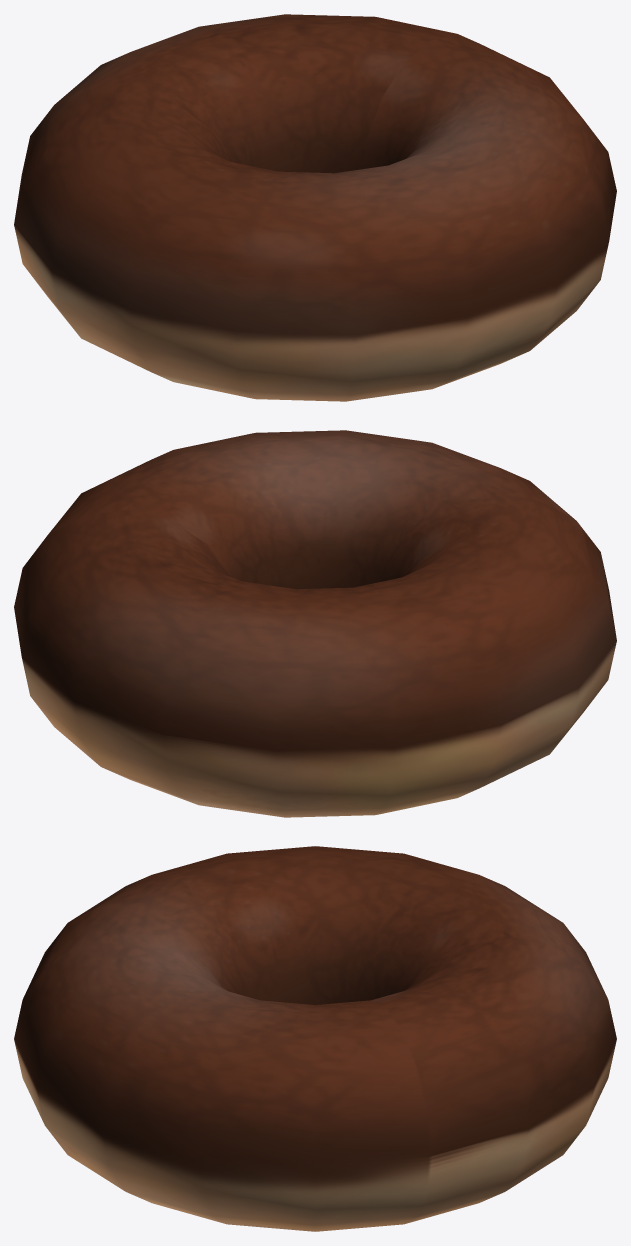
Rendered from donut.fbx.
The picture shows the model from 3 angles, top to bottom: view 1: azimuth 30°, elevation 25°; view 2: azimuth 150°, elevation 25°; view 3: azimuth 270°, elevation 25°; orthographic projection.
Visible parts, largest first — view 1: Donut; view 2: Donut; view 3: Donut.
Boxes of the visible parts, x1,y1,x2,y2 form: Donut: (14, 14, 616, 401); Donut: (14, 430, 616, 817); Donut: (14, 846, 616, 1231).
Size of the model in its own units: 3.21 by 1.21 by 3.21.
1 material, 1 textured.
